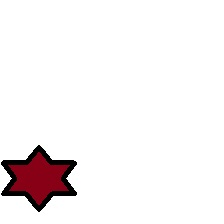star: (2, 145, 77, 212)
